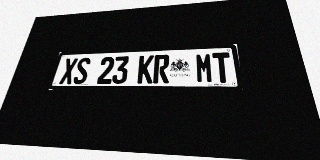2: (97, 56, 115, 84)
3: (111, 56, 129, 84)
K: (137, 55, 154, 84)
M: (195, 53, 214, 83)
R: (153, 54, 170, 83)
S: (72, 57, 91, 84)
T: (212, 52, 232, 83)
X: (59, 58, 78, 84)
